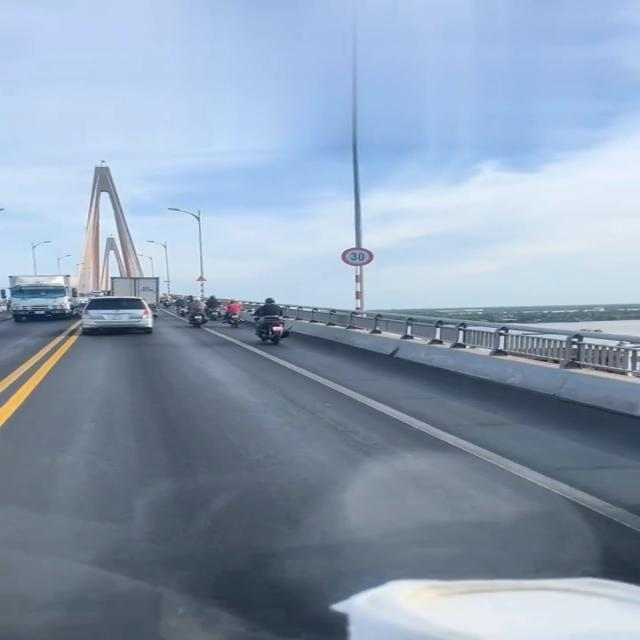127-toc-do-toi-da-30: (341, 246, 376, 267)
